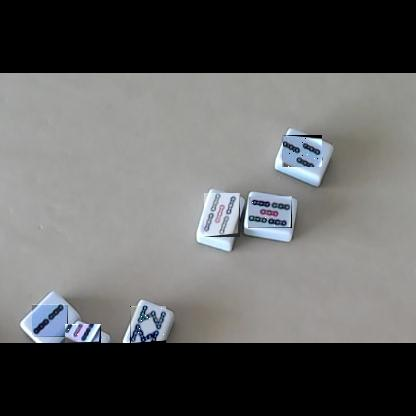2s: (32, 304, 68, 337)
3s: (282, 135, 322, 167)
5s: (204, 193, 240, 237), (248, 196, 292, 228)
8s: (130, 306, 166, 343)
9s: (65, 324, 101, 343)
